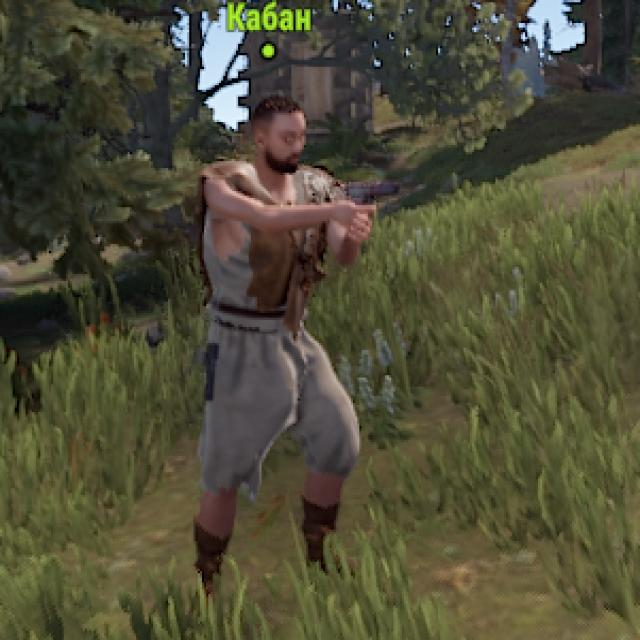Player: (193, 95, 373, 561)
